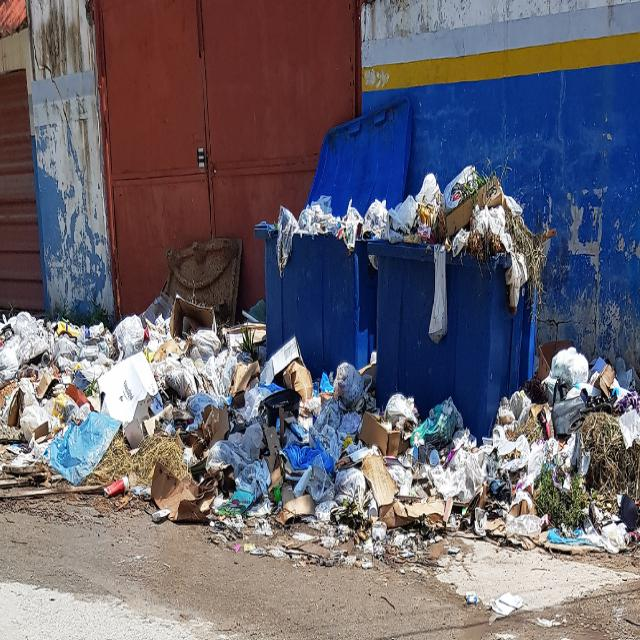garbage: (0, 304, 639, 554), (259, 161, 555, 321)
